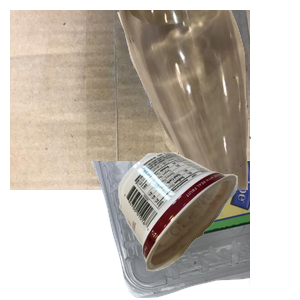cardboard: (10, 10, 250, 190)
glass: (115, 10, 300, 190)
plastic: (23, 161, 263, 300)
trash: (116, 149, 300, 300)
